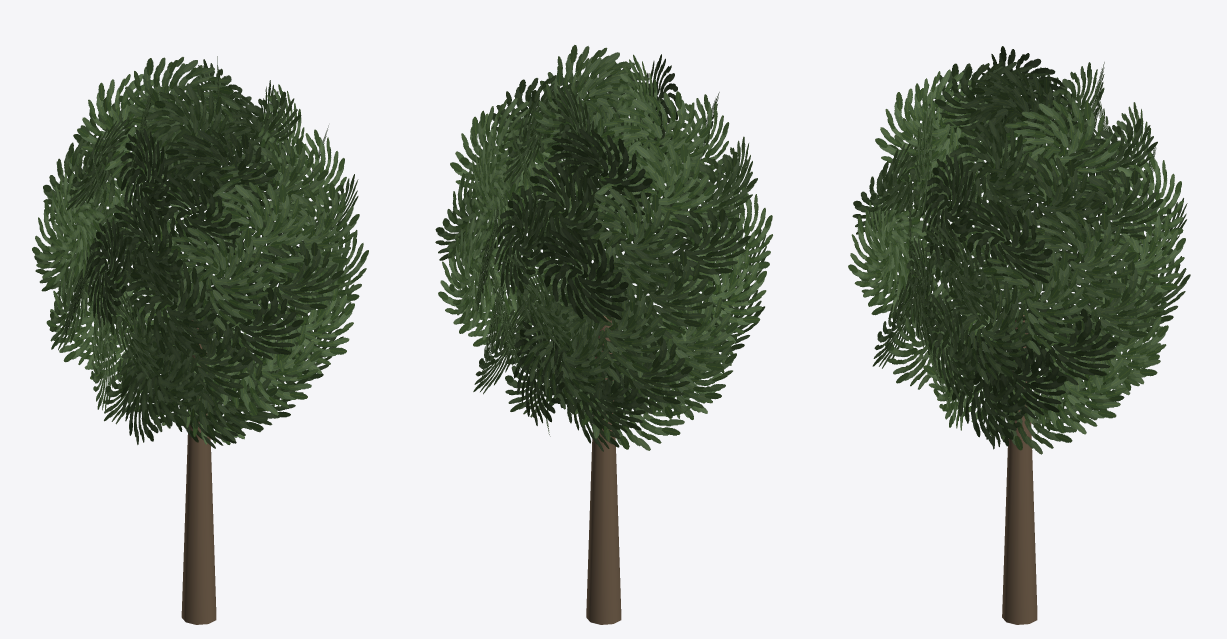
The picture shows the model from 3 angles, left to right: view 1: azimuth 30°, elevation 25°; view 2: azimuth 150°, elevation 25°; view 3: azimuth 270°, elevation 25°; orthographic projection.
Visible parts, largest first — view 1: Authored foliage cards, Tapered trunk / surface 1; view 2: Authored foliage cards, Tapered trunk / surface 1; view 3: Authored foliage cards, Tapered trunk / surface 1.
Boxes of the visible parts, x1,y1,x2,y2 form: Authored foliage cards: [32, 56, 368, 448]; Tapered trunk / surface 1: [181, 320, 216, 624]; Authored foliage cards: [435, 45, 772, 451]; Tapered trunk / surface 1: [586, 317, 621, 624]; Authored foliage cards: [848, 46, 1190, 454]; Tapered trunk / surface 1: [1002, 320, 1037, 624].
Bounding box in the file's own units: 6.4 × 10.46 × 6.39.
2 materials, 1 textured.
